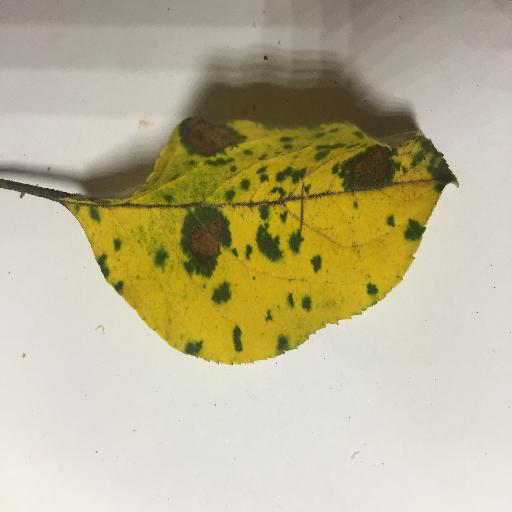Brown_Spot: (185, 204, 233, 269), (181, 117, 247, 153), (336, 143, 389, 185)
